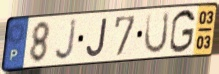7: (112, 14, 138, 58)
8: (28, 20, 51, 65)
G: (168, 8, 197, 55)
J: (54, 17, 79, 62), (85, 17, 110, 59)
U: (142, 10, 171, 56)
